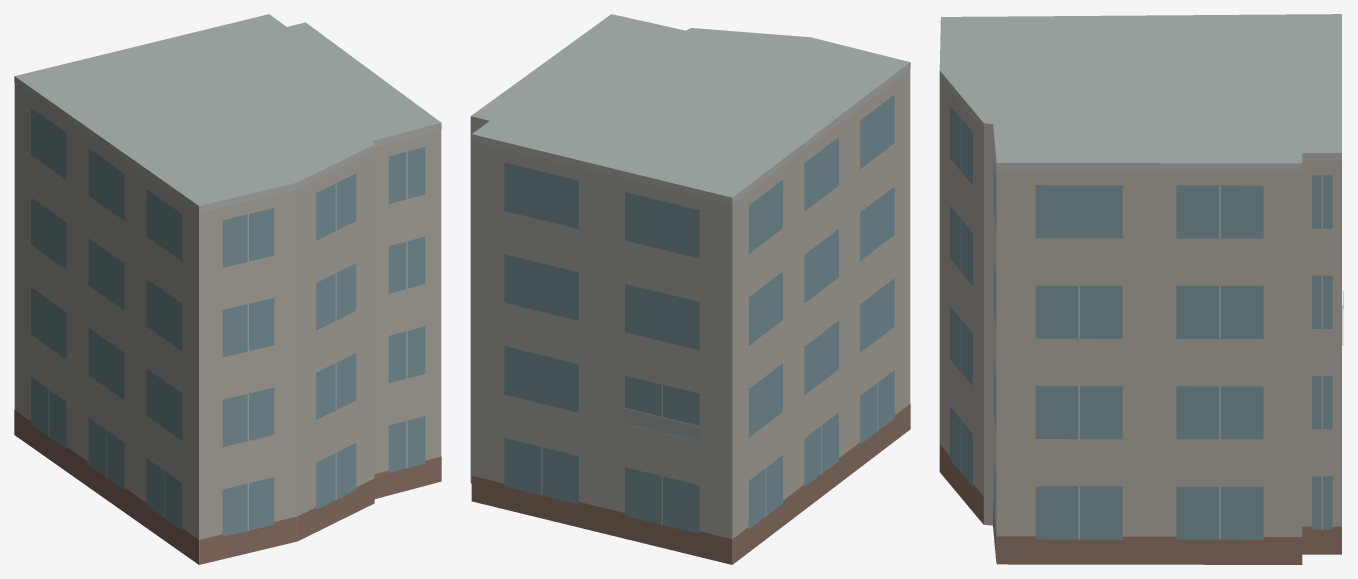
The model's file is survey-upis-32617958.glb.
3 renders of one model, left to right at view 1: azimuth 30°, elevation 25°; view 2: azimuth 150°, elevation 25°; view 3: azimuth 270°, elevation 25°, orthographic. The views are drawn at different scales.
Visible parts, largest first — view 1: survey-upis-32617958.tmp; view 2: survey-upis-32617958.tmp; view 3: survey-upis-32617958.tmp.
Part boxes in pixels (left/top/right/bottom): survey-upis-32617958.tmp: left=14, top=14, right=441, bottom=564; survey-upis-32617958.tmp: left=470, top=14, right=910, bottom=564; survey-upis-32617958.tmp: left=939, top=14, right=1343, bottom=564.
Size of the model in its own units: 10.14 by 12.7 by 11.58.
